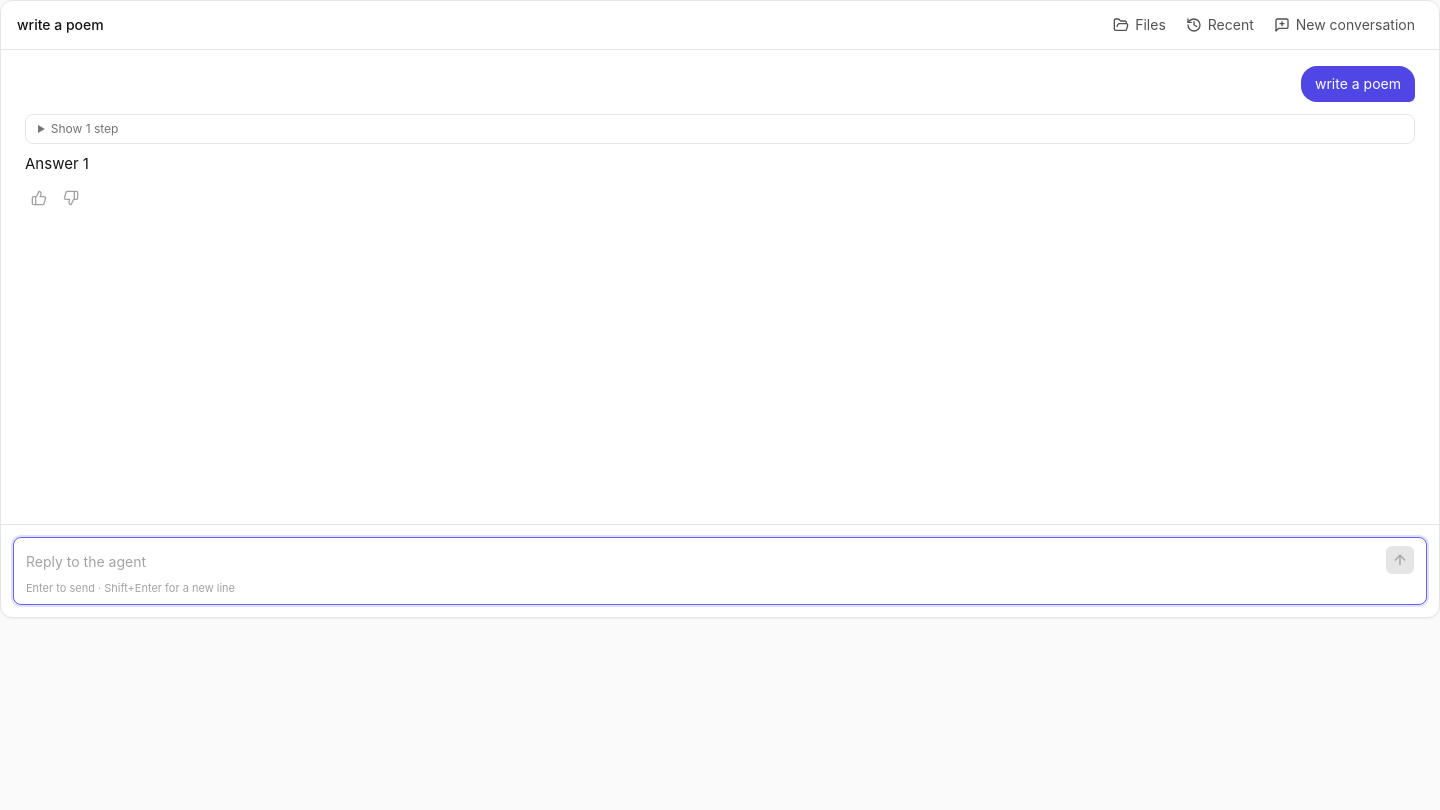
ShareChat › collapses the steps, shows the final answer, and posts thumbs with the share token
Expected: the element with test id "final-answer" reads "Answer 1", [25,154,89,173]
Expected: the heading "Show 1 step" is shown, [51,121,118,136]
Click the button named "Helpful" at (39, 198), box [25,184,53,212]
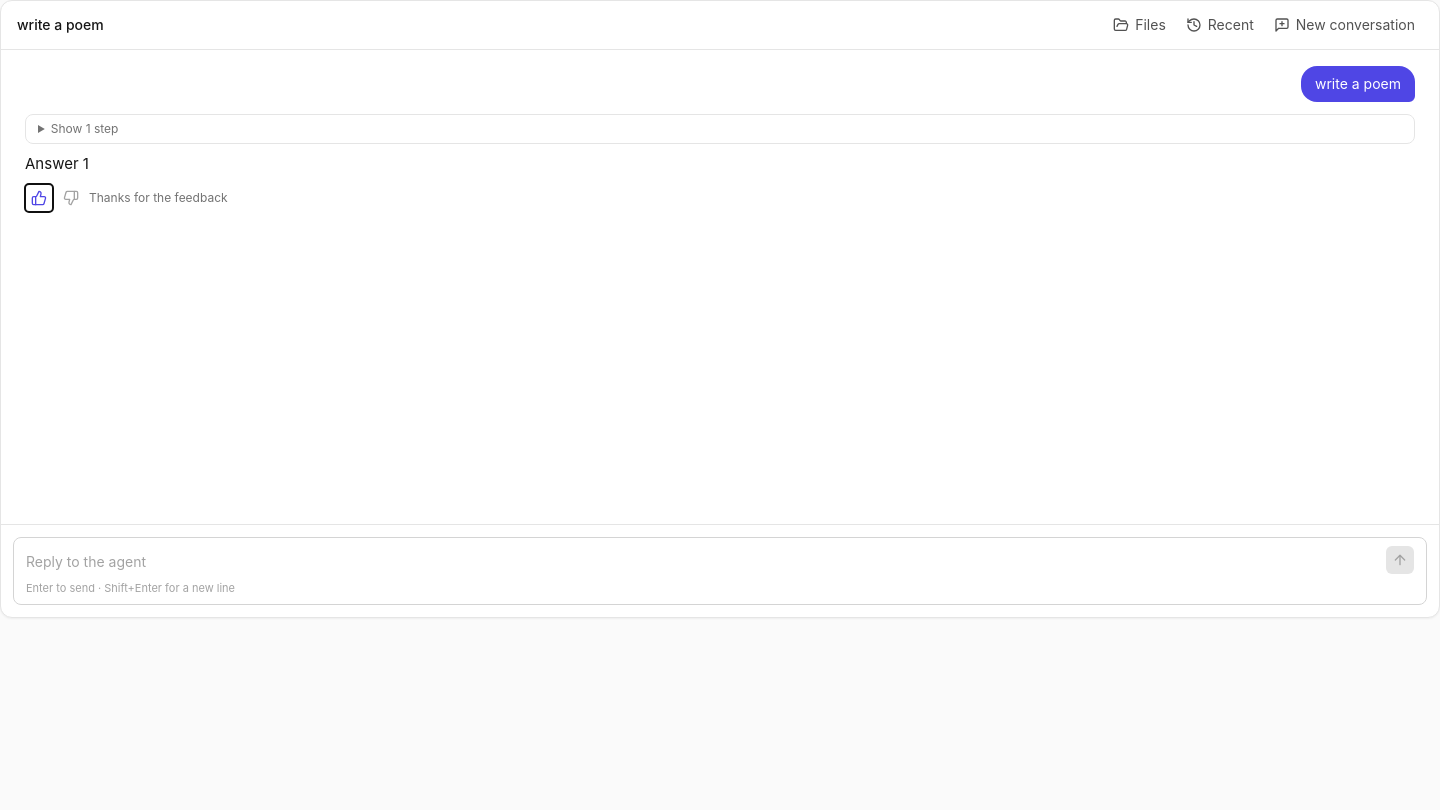
Expected: the text "Thanks for the feedback" is shown, [89,190,228,206]
